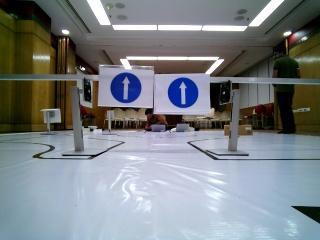straight: (102, 64, 150, 108), (156, 76, 210, 112)
